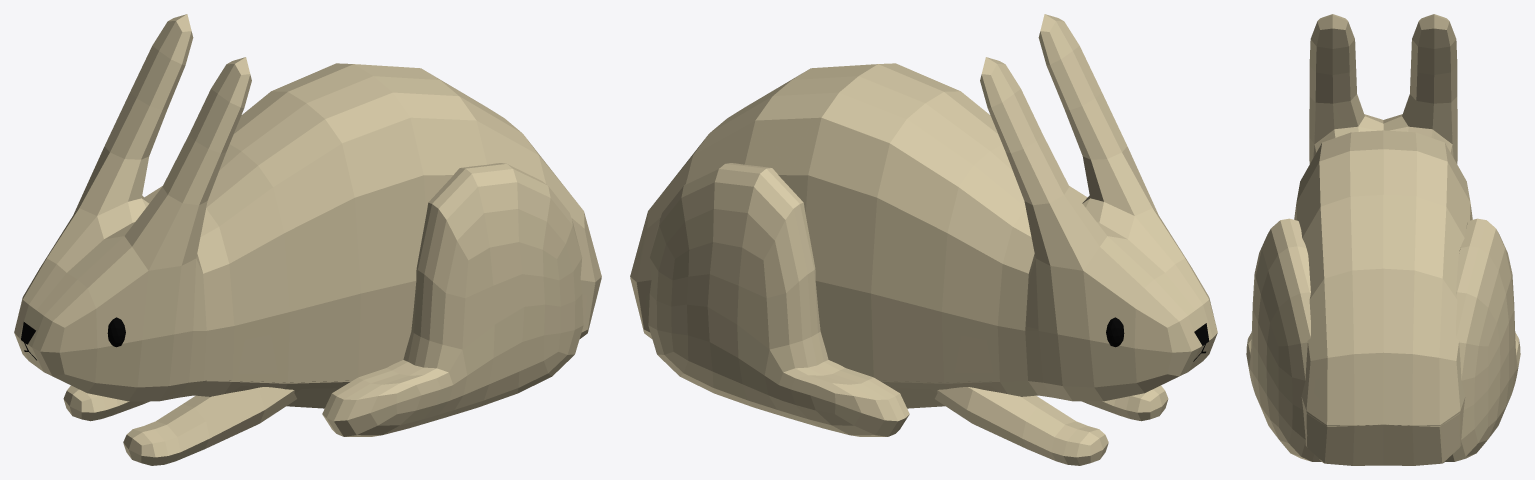
Rendered from bunny.glb.
3 renders of one model, left to right at view 1: azimuth 30°, elevation 25°; view 2: azimuth 150°, elevation 25°; view 3: azimuth 270°, elevation 25°, orthographic. The views are drawn at different scales.
Visible parts, largest first — view 1: Cube; view 2: Cube; view 3: Cube.
Part boxes in pixels (left/top/right/bottom): Cube: left=14, top=14, right=601, bottom=465; Cube: left=630, top=14, right=1217, bottom=465; Cube: left=1246, top=14, right=1520, bottom=465.
Bounding box in the file's own units: 1.5 × 1 × 0.7527.
